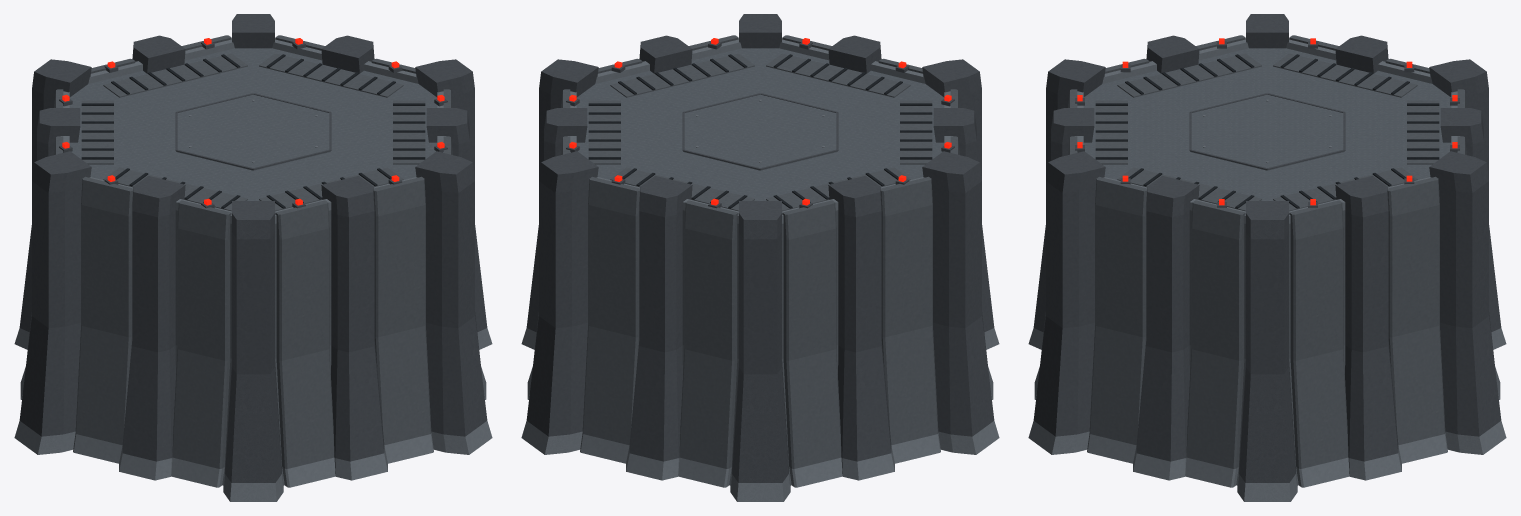
The model's file is terminal.glb.
3 views of the same model, side by side, from view 1: azimuth 30°, elevation 25°; view 2: azimuth 150°, elevation 25°; view 3: azimuth 270°, elevation 25° (orthographic).
Parts seen in each view (by area): view 1: terminal-lod0-roof0, terminal-lod0-base0, terminal-lod0-floor0; view 2: terminal-lod0-roof0, terminal-lod0-base0, terminal-lod0-floor0; view 3: terminal-lod0-roof0, terminal-lod0-base0, terminal-lod0-floor0.
Boxes of the visible parts, left/top/right/bottom form: terminal-lod0-roof0: left=32, top=14, right=474, bottom=253; terminal-lod0-base0: left=14, top=225, right=492, bottom=501; terminal-lod0-floor0: left=32, top=103, right=474, bottom=374; terminal-lod0-roof0: left=539, top=14, right=981, bottom=253; terminal-lod0-base0: left=521, top=225, right=999, bottom=501; terminal-lod0-floor0: left=539, top=103, right=981, bottom=374; terminal-lod0-roof0: left=1046, top=14, right=1488, bottom=253; terminal-lod0-base0: left=1028, top=225, right=1506, bottom=501; terminal-lod0-floor0: left=1046, top=103, right=1488, bottom=374.
Size of what is drawn, in the model's own units: 70.84 by 40.8 by 64.5.
Materials: 6 (6 with a texture image).
